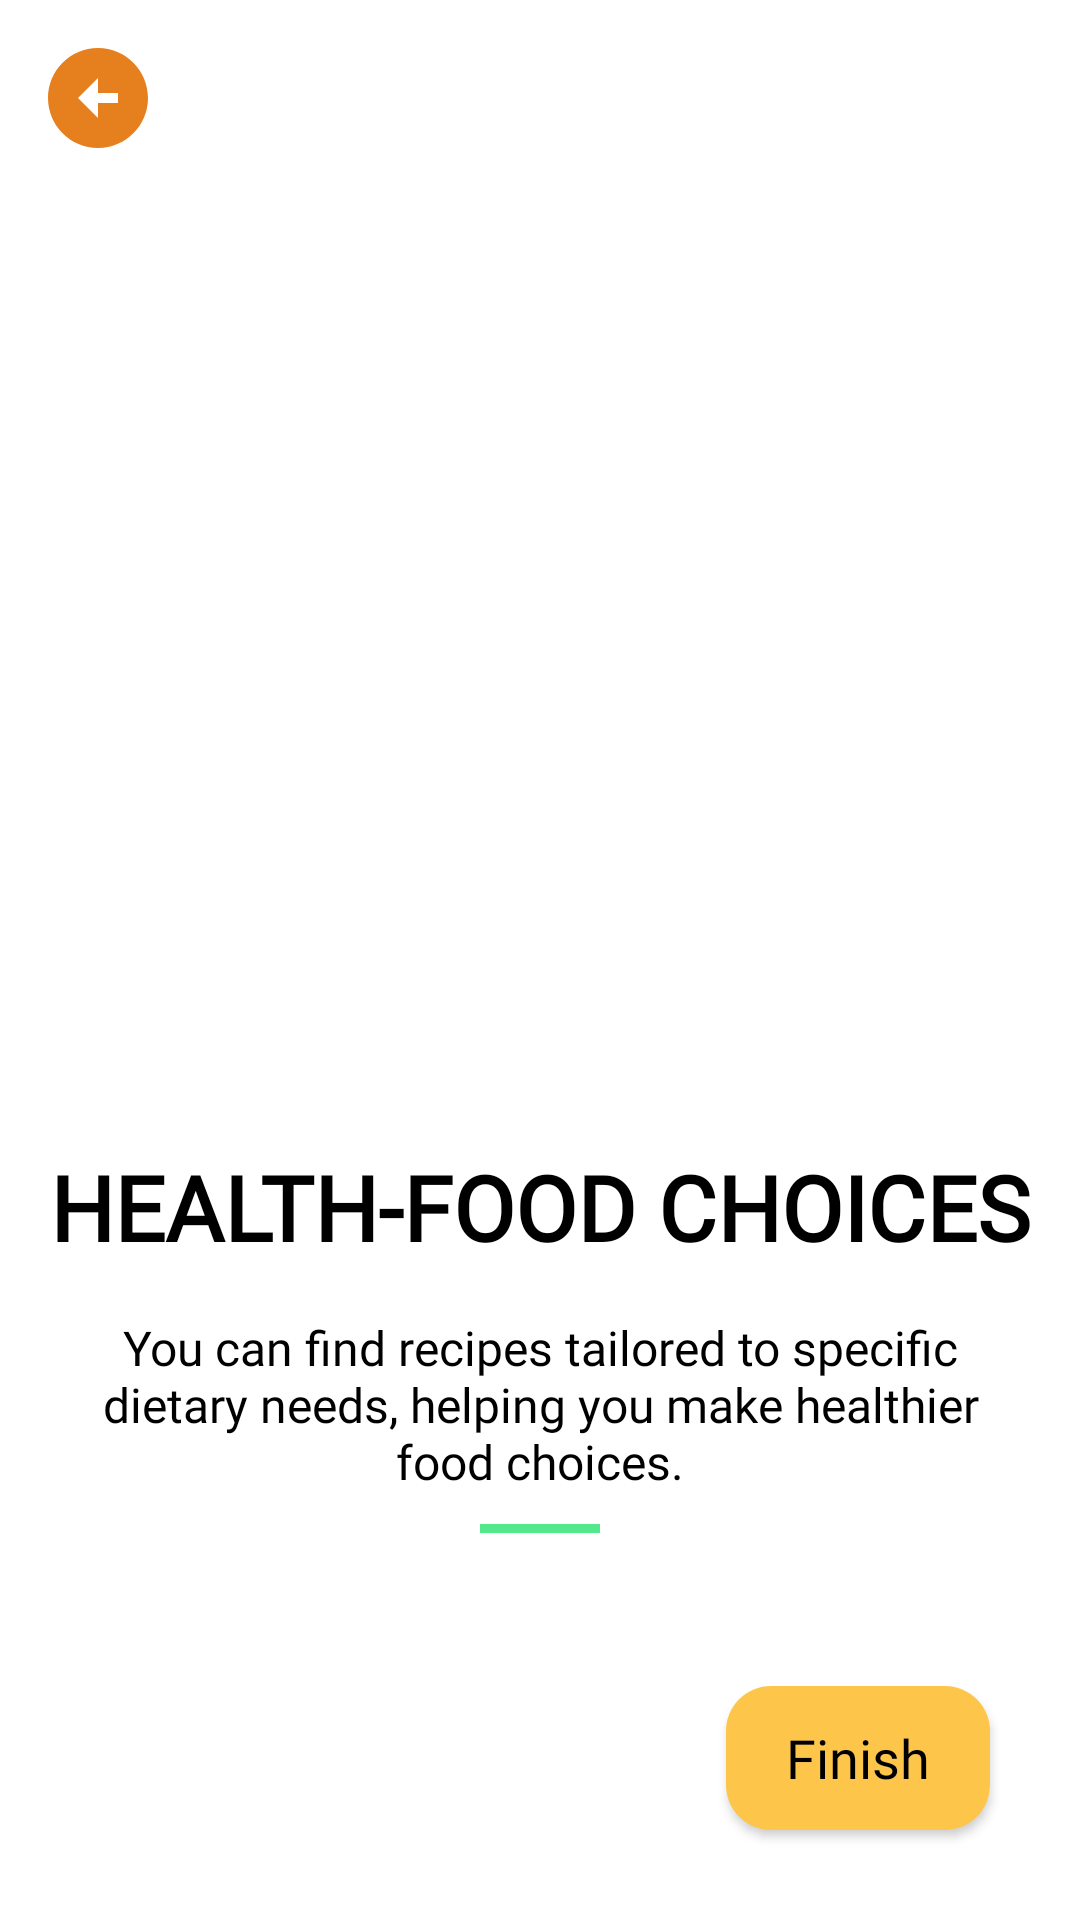

Named icons in this screenshot (1080×1920) and their bounding boxes, (x1,y1,x2,y2):
arrow back: (48,48,148,148)
